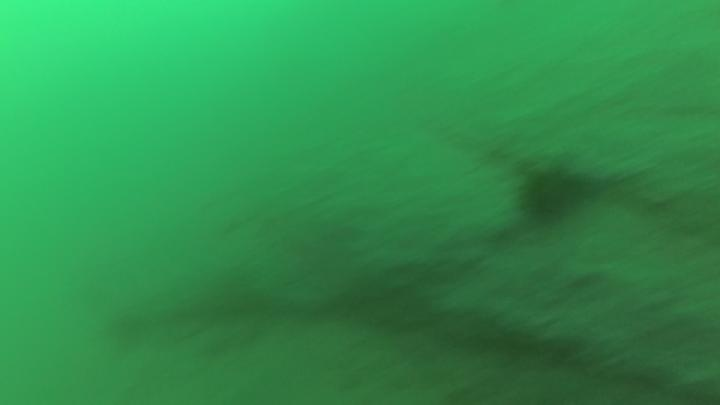echinus: (513, 161, 586, 229), (103, 307, 151, 354)
